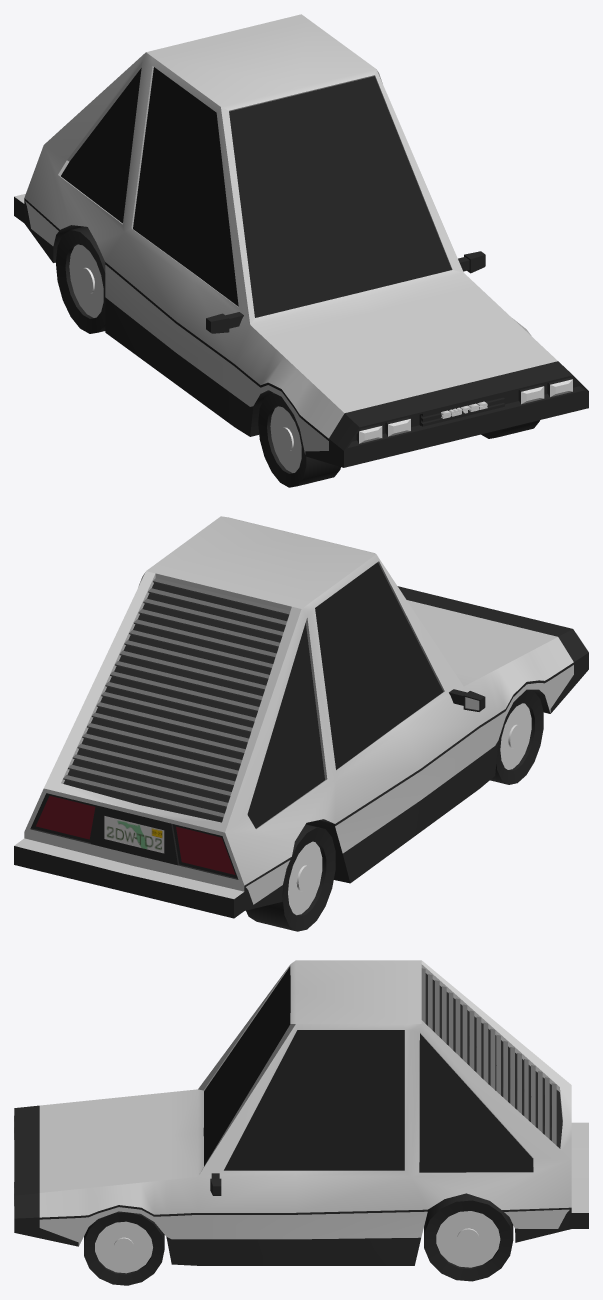
Rendered from DMC-12 sTYLISED.fbx.
The picture shows the model from 3 angles, top to bottom: view 1: azimuth 30°, elevation 25°; view 2: azimuth 150°, elevation 25°; view 3: azimuth 270°, elevation 25°; orthographic projection. The views are drawn at different scales.
Visible parts, largest first — view 1: Car body, backtire(left), fronttire(left), Grille; view 2: Car body, back window, backtire(left), fronttire(left), MirrorRight; view 3: Car body, back window, Backtire(right), fronttire(right).
Boxes of the visible parts, left/top/right/bottom form: Car body: left=14, top=14, right=588, bottom=467; backtire(left): left=55, top=226, right=105, bottom=333; fronttire(left): left=258, top=392, right=340, bottom=487; Grille: left=419, top=394, right=504, bottom=426; Car body: left=14, top=516, right=588, bottom=918; back window: left=63, top=578, right=290, bottom=818; backtire(left): left=246, top=824, right=335, bottom=931; fronttire(left): left=490, top=690, right=543, bottom=784; MirrorRight: left=449, top=689, right=485, bottom=711; Car body: left=14, top=960, right=588, bottom=1265; back window: left=421, top=968, right=556, bottom=1145; Backtire(right): left=424, top=1193, right=513, bottom=1281; fronttire(right): left=84, top=1211, right=164, bottom=1285.
Bounding box in the file's own units: 126 × 273 × 129.
